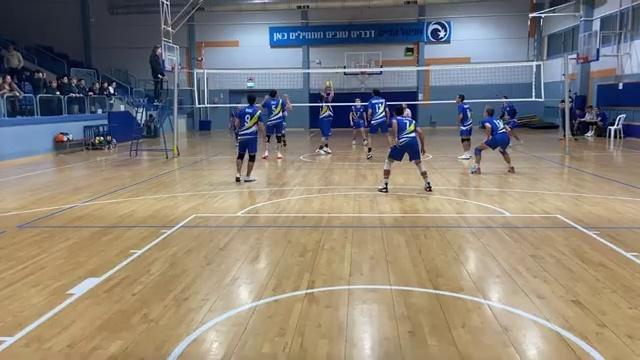ball: (322, 80, 334, 89)
